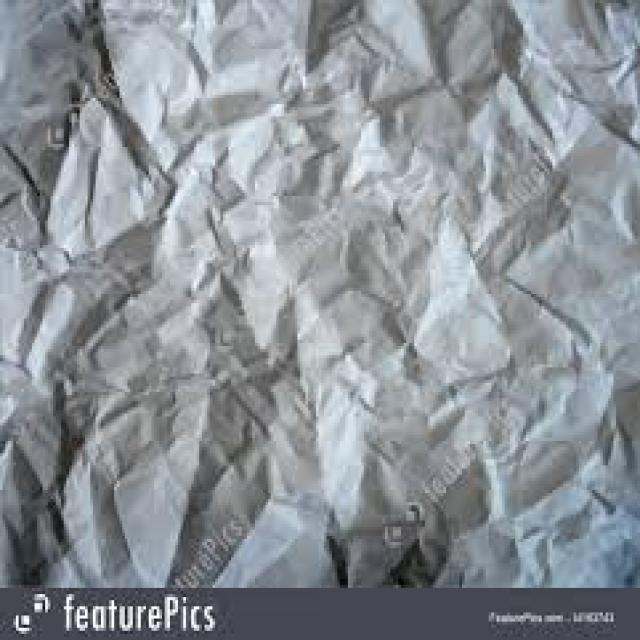paper: (0, 0, 637, 585)
